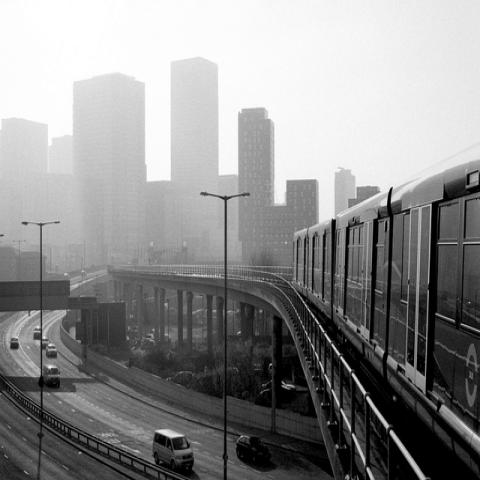car: (150, 426, 196, 473), (236, 432, 272, 466), (43, 364, 61, 388), (44, 344, 57, 358), (33, 326, 41, 339), (10, 337, 19, 348), (42, 336, 49, 348)
